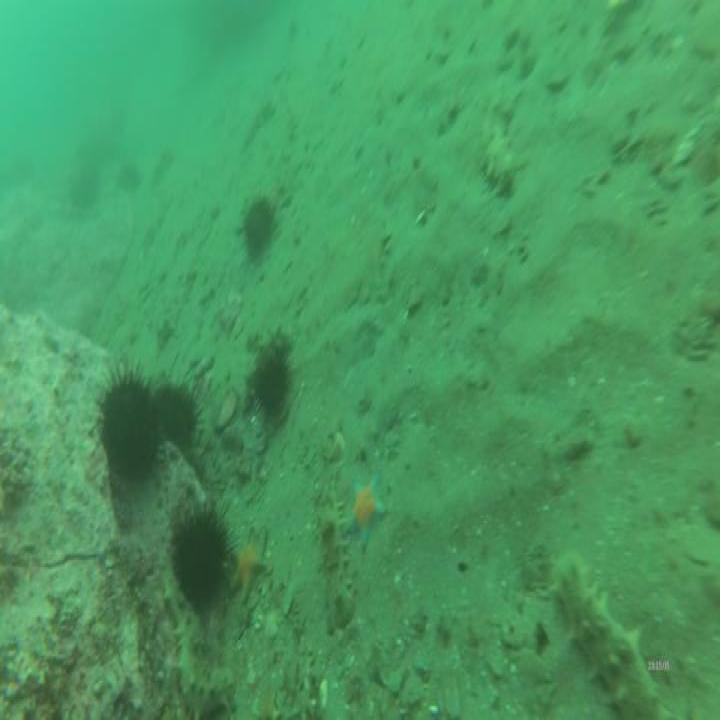echinus: (161, 492, 233, 618), (97, 359, 162, 485), (149, 370, 206, 453), (247, 346, 295, 426), (240, 192, 283, 268)
holothurian: (550, 549, 665, 720), (315, 498, 354, 629), (481, 91, 521, 199)
starfish: (342, 474, 388, 554), (231, 524, 275, 606)
